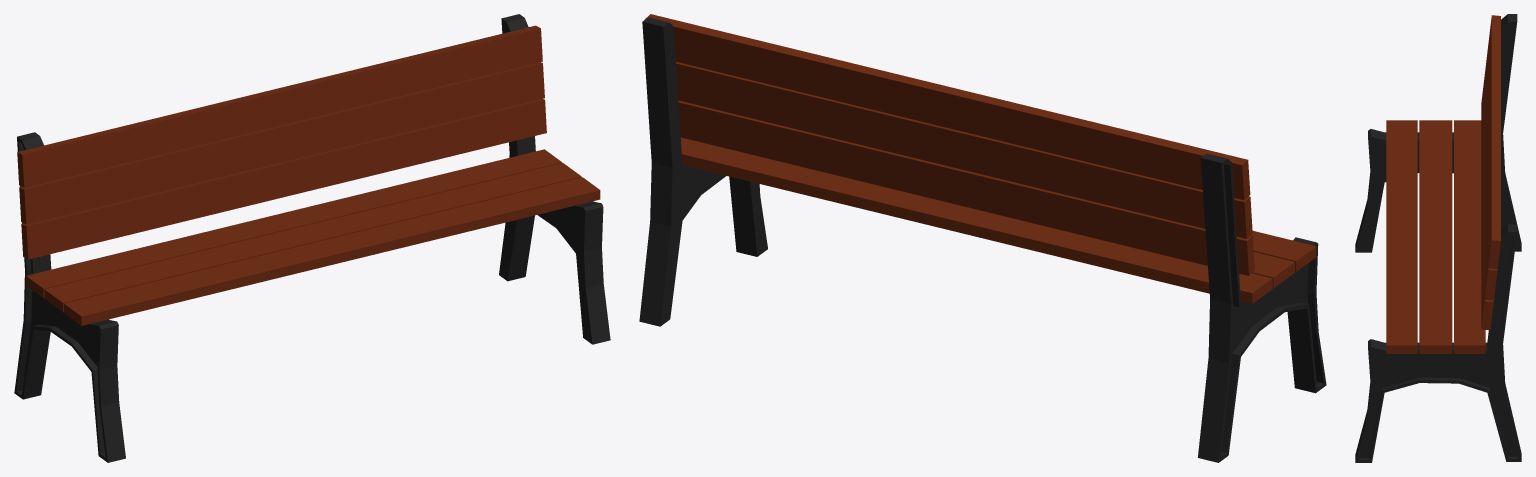
File: Mesh_Bench.fbx
The picture shows the model from 3 angles, left to right: view 1: azimuth 30°, elevation 25°; view 2: azimuth 150°, elevation 25°; view 3: azimuth 270°, elevation 25°; orthographic projection. The views are drawn at different scales.
Parts seen in each view (by area): view 1: Box006; view 2: Box006; view 3: Box006.
Boxes of the visible parts, x1=… form: Box006: x1=14, y1=14, x2=610, y2=462; Box006: x1=639, y1=14, x2=1326, y2=462; Box006: x1=1355, y1=14, x2=1521, y2=462.
Size of the model in its own units: 86.01 by 41.14 by 26.9.
